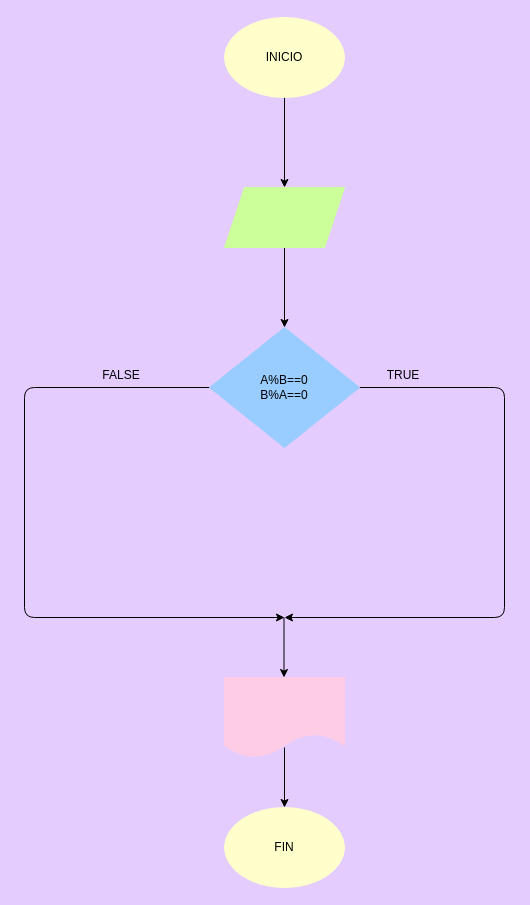
Some shapes in this 530 by 905 pixel diagram are drawn without their labels. Here are the shapes that lost their labels. From the top down, the box of each, then its label:
(224, 186, 344, 248): A,B,C
(224, 676, 344, 758): RESULTADO
